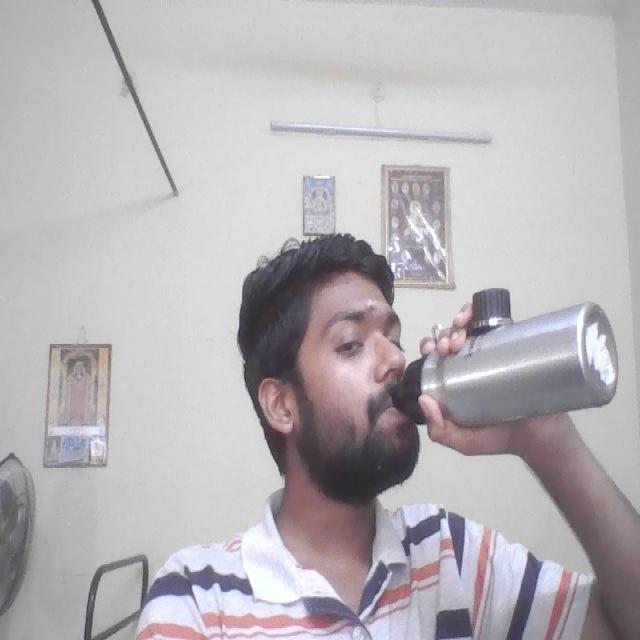Drinking: (387, 278, 619, 425)
